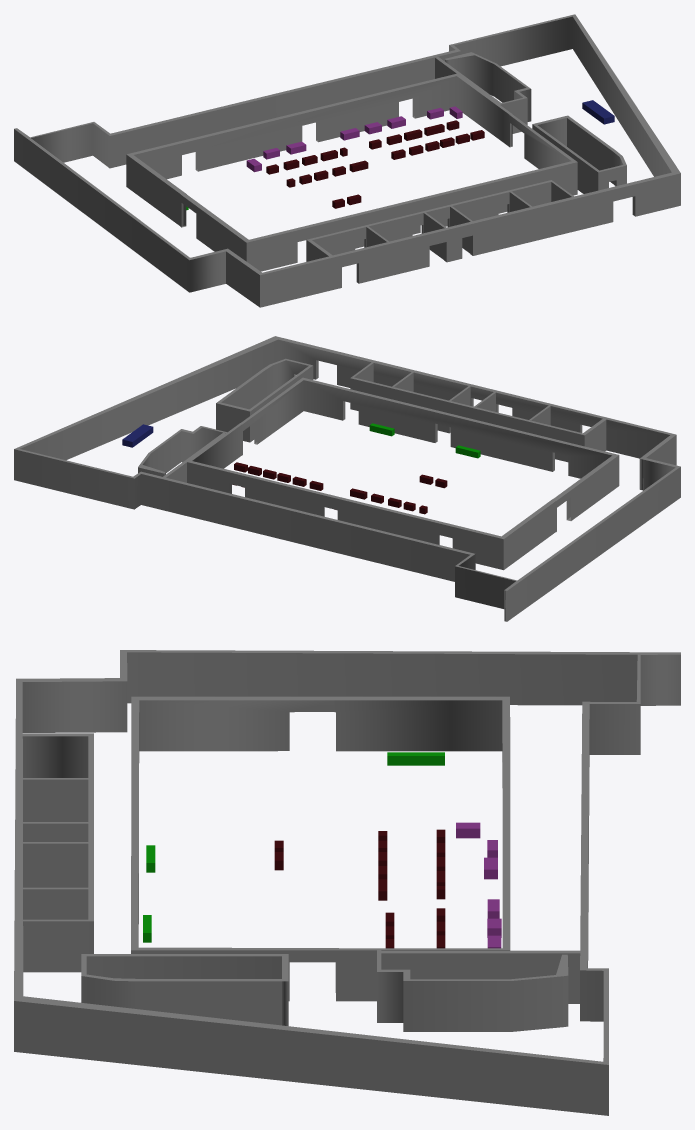
File: planos1.fbx
3 views of the same model, one above another, from view 1: azimuth 30°, elevation 25°; view 2: azimuth 150°, elevation 25°; view 3: azimuth 270°, elevation 25° (orthographic). The views are drawn at different scales.
Parts seen in each view (by area): view 1: polySurface127; view 2: polySurface127; view 3: polySurface127.
Boxes of the visible parts, x1=… form: polySurface127: x1=14, y1=14, x2=680, y2=307; polySurface127: x1=14, y1=336, x2=680, y2=621; polySurface127: x1=14, y1=650, x2=680, y2=1115.
Bounding box in the file's own units: 5.58 × 0.3203 × 3.79.
